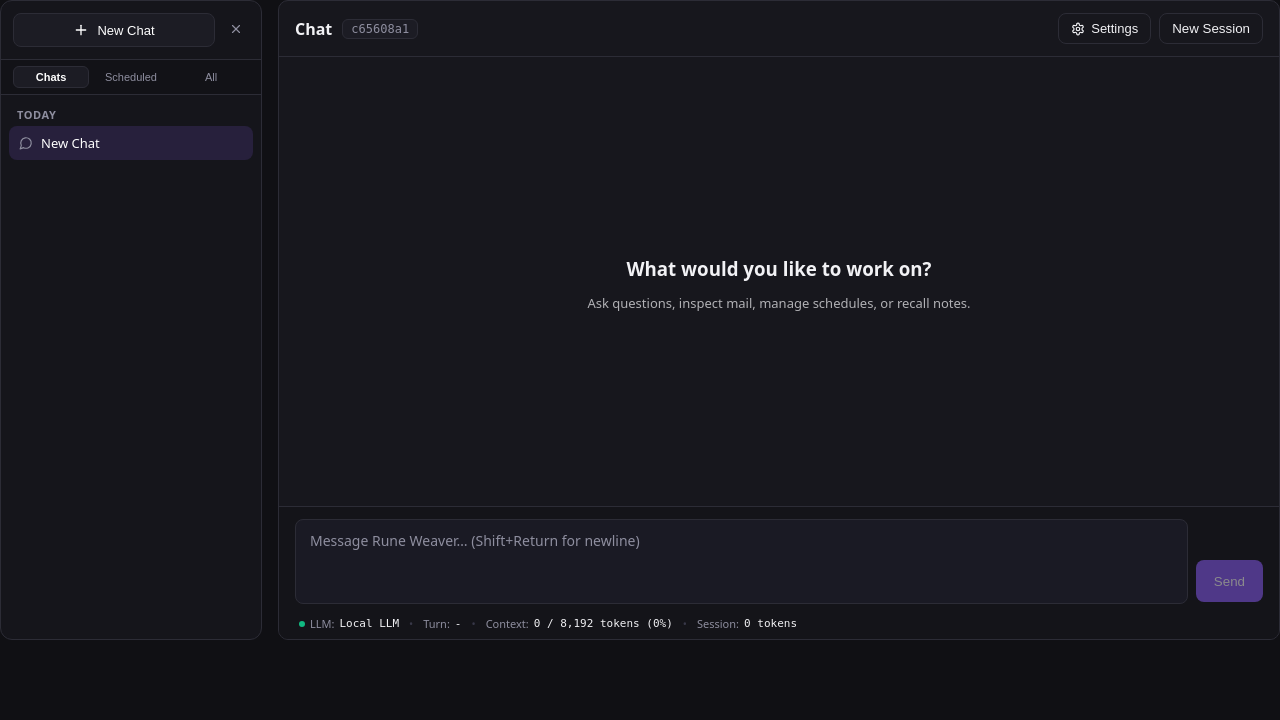
Scenario: ChatView › sends a message and renders the assistant reply
Type "hello" into the text box named "Chat input".
click(741, 562); type("hello")  # box [295,519,1188,604]
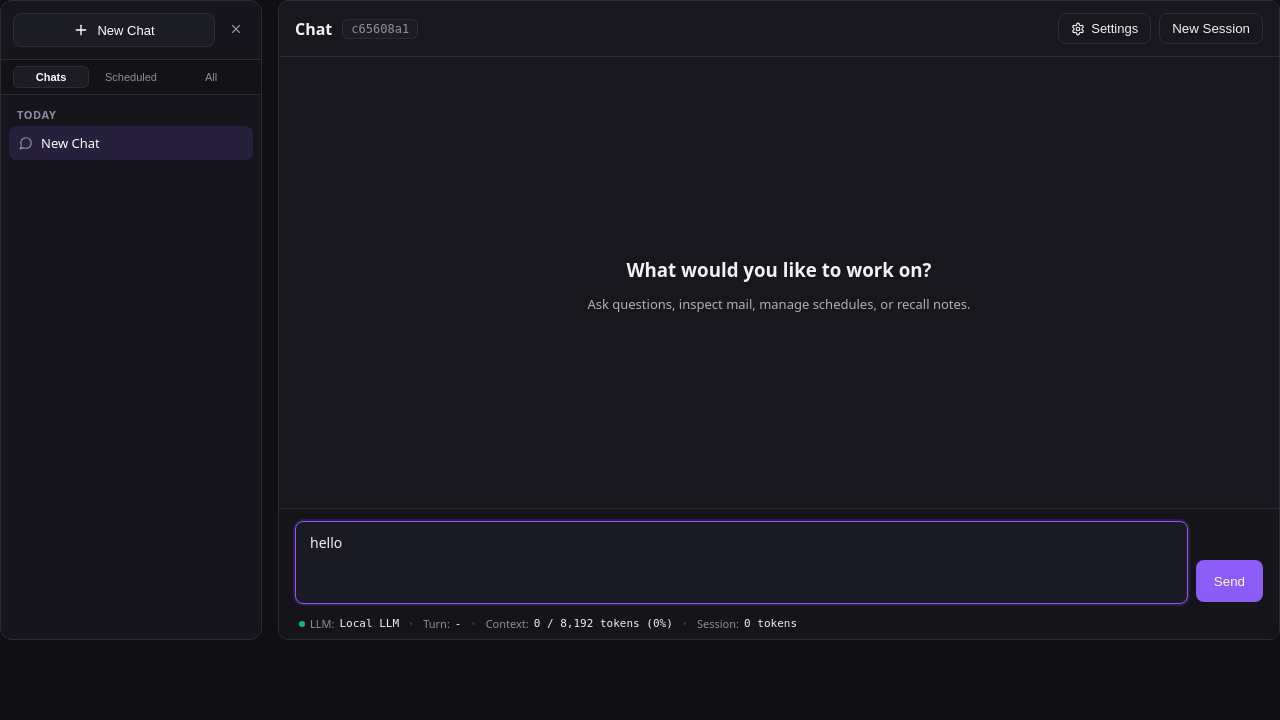
Click the button "Send".
click(1229, 581)  # box [1196,560,1263,602]
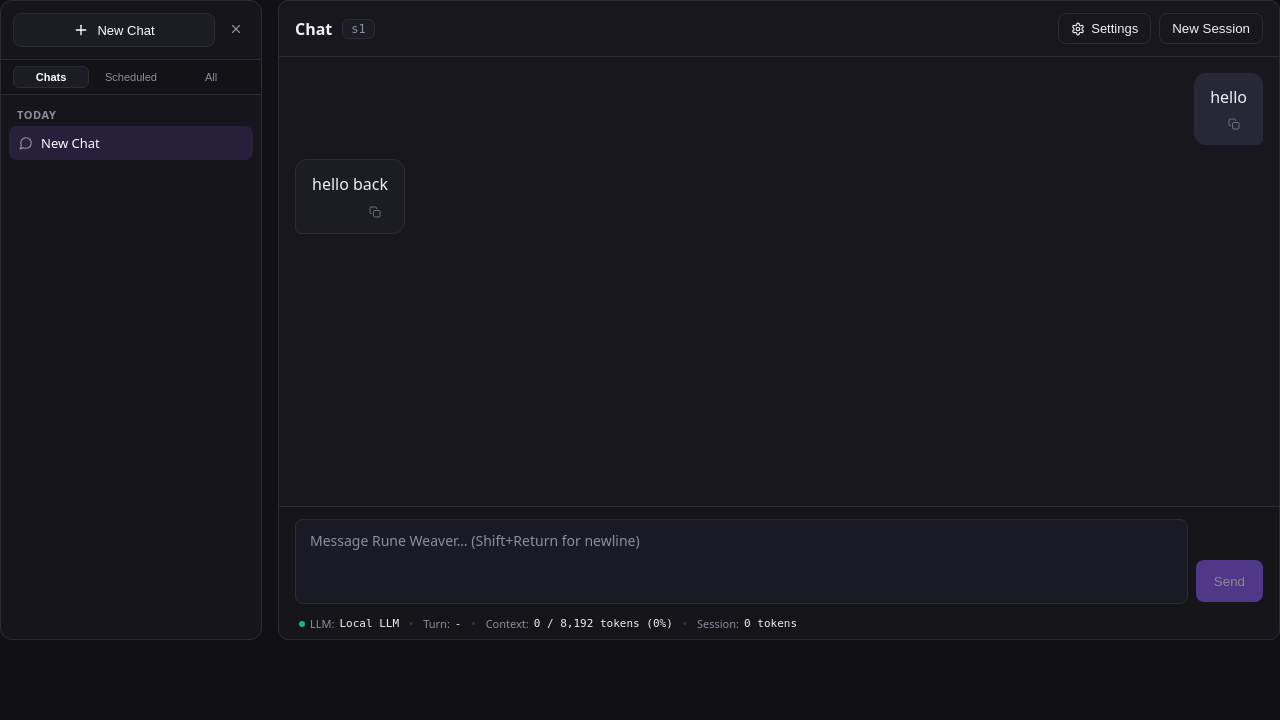
Check: the text "hello back" is shown, box [312,172,388,197]
Check: the text "hello" is shown, box [1210,85,1247,109]
